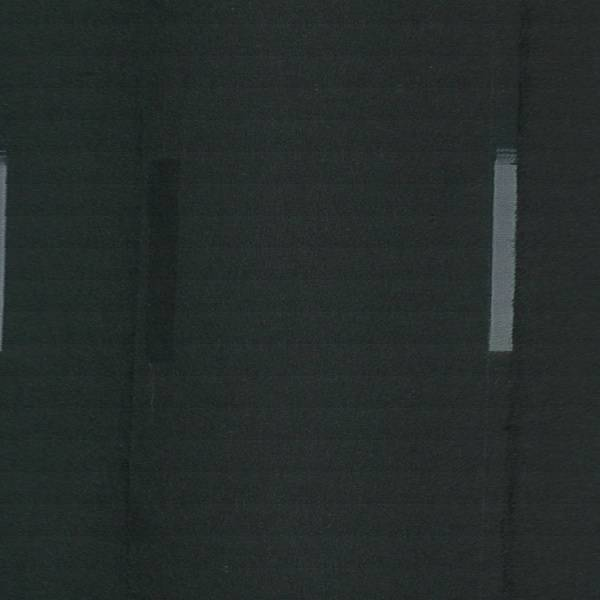road_damage: (117, 381, 151, 596), (499, 401, 523, 600)
